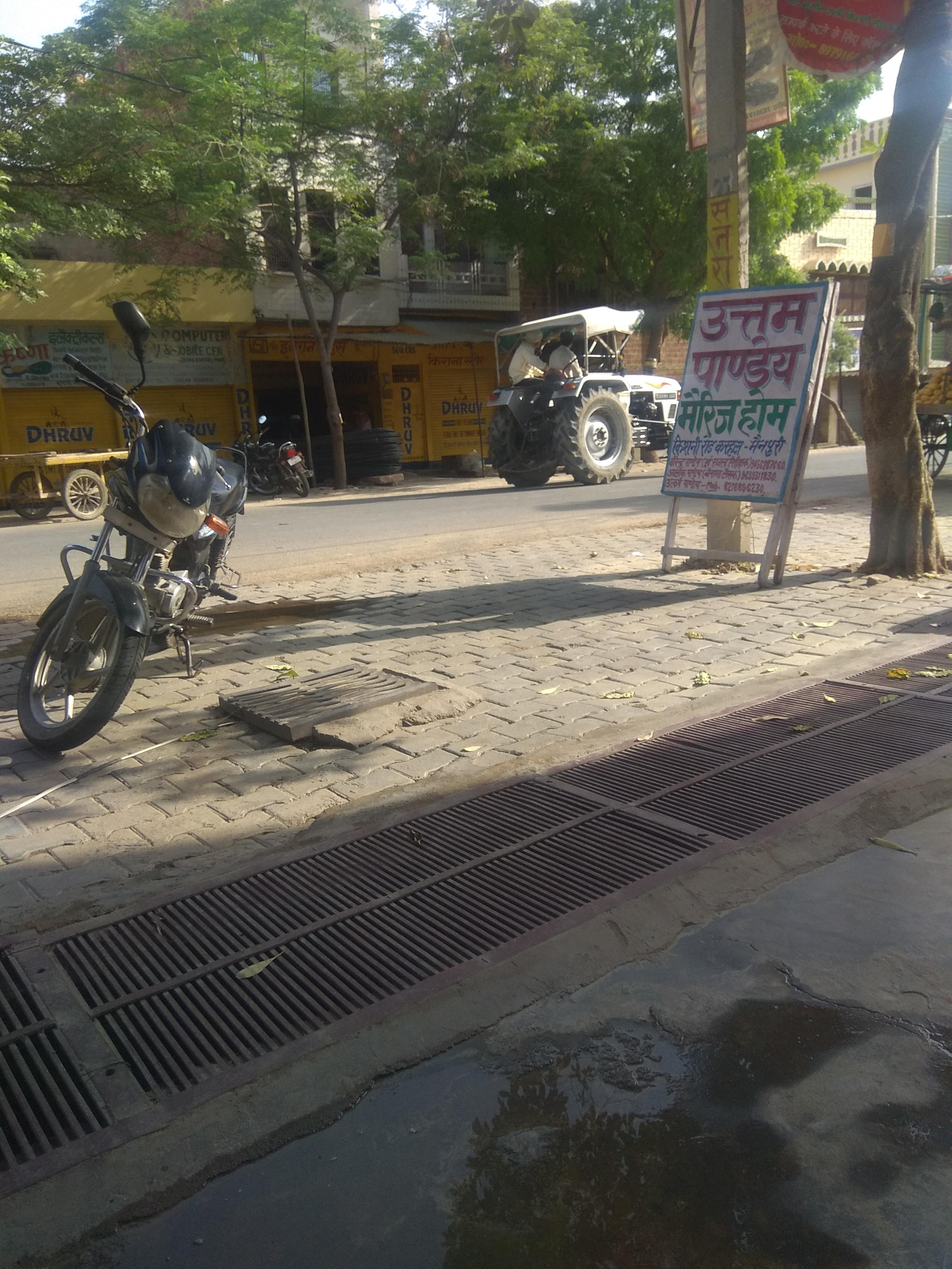non-ambulance: (407, 234, 723, 536)
